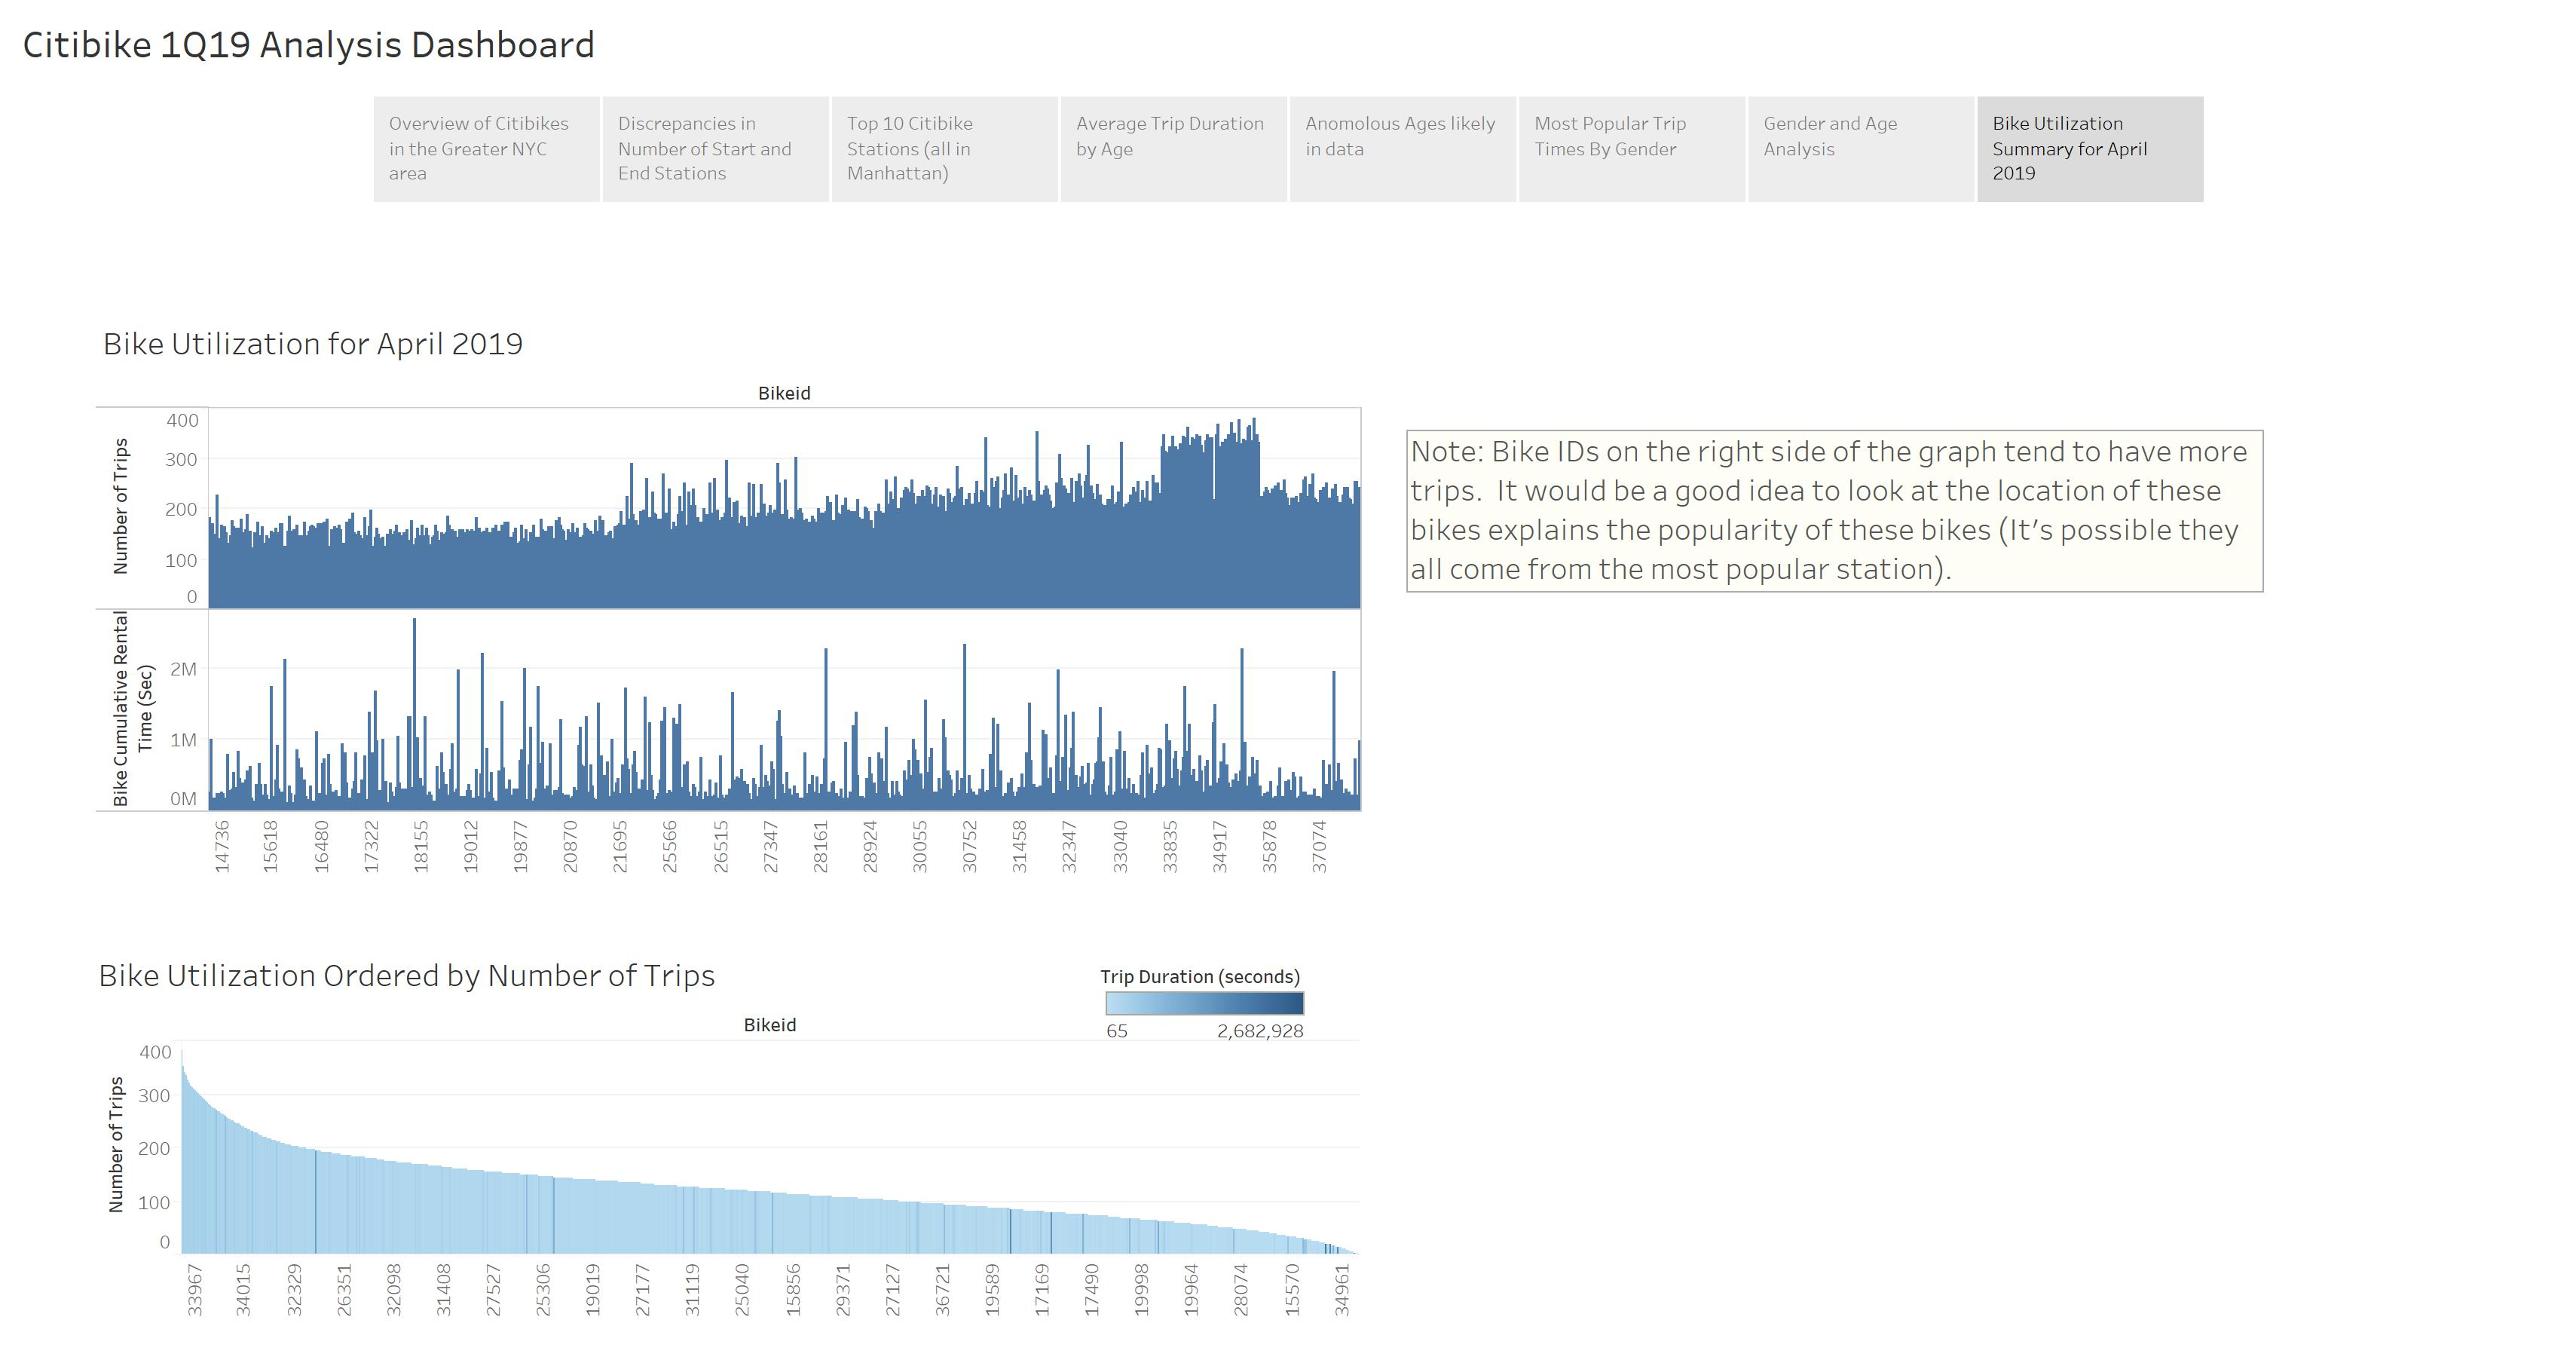

The dashboard page shown, as its layout file describes it:
{"tool":"tableau","page":{"name":"Bike Utilization Summary","canvas":[1000,800],"ordinal":1},"visuals":[{"type":"worksheet","title":"Bike Utilization","mark":"Automatic","rows":["Number of Records","tripduration"],"cols":["bikeid"],"box":[56,57,840,392]},{"type":"worksheet","title":"Bike Utilization2","mark":"Automatic","rows":["Number of Records"],"cols":["bikeid"],"box":[53,476,841,266]},{"type":"legend","title":"Bike Utilization2","param":"[federated.0grz1eo1pkrk0v1ddi04d011alyu].[sum:tripduration:qk]","box":[722,485,140,76]}]}

Visuals, with their boxes on the page's 1000x800 design canvas (x1, y1, x2, y2). These are canvas units, not pixel positions in the 2576x1363 screenshot, which may show the page scaled, cropped or inside an application window:
"Bike Utilization" worksheet: region(56, 57, 896, 449)
"Bike Utilization2" worksheet: region(53, 476, 894, 742)
"Bike Utilization2" legend: region(722, 485, 862, 561)
